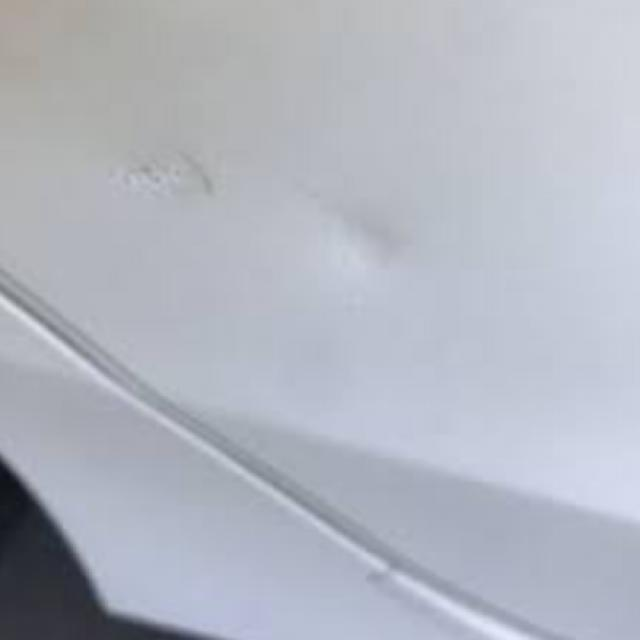dents: (114, 131, 215, 236), (315, 195, 416, 292)
